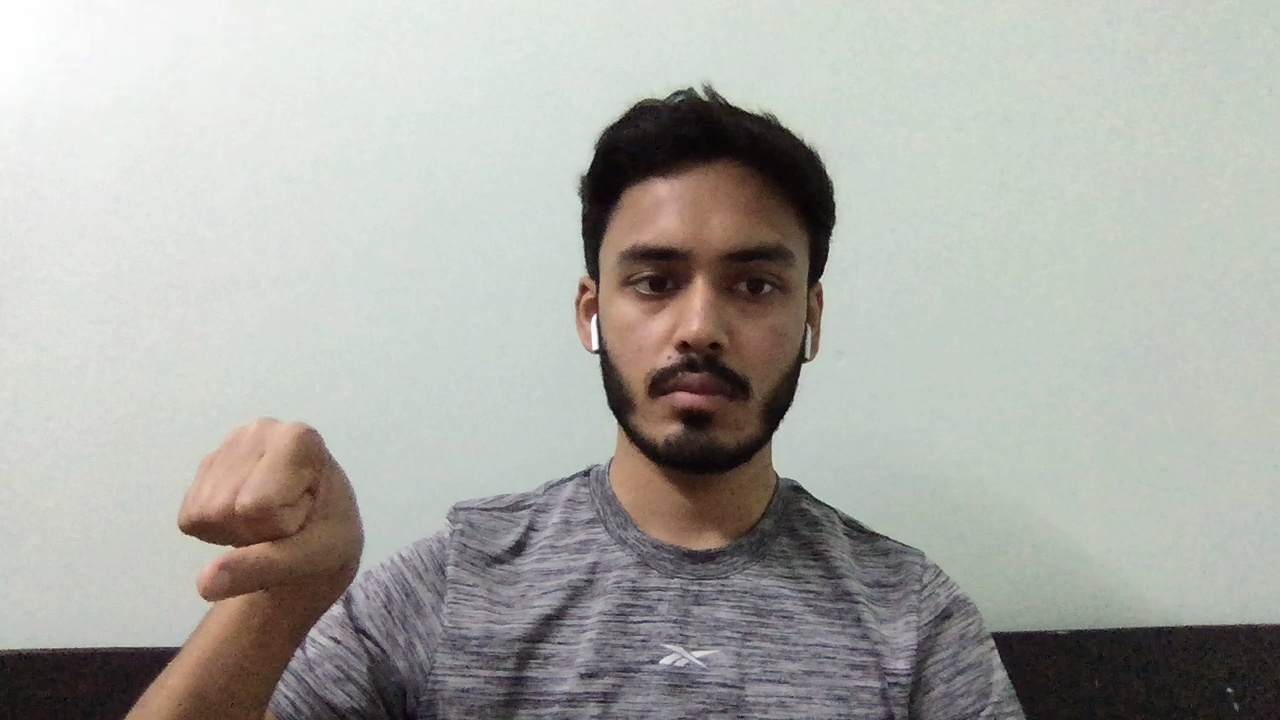Yes: (170, 408, 374, 620)
